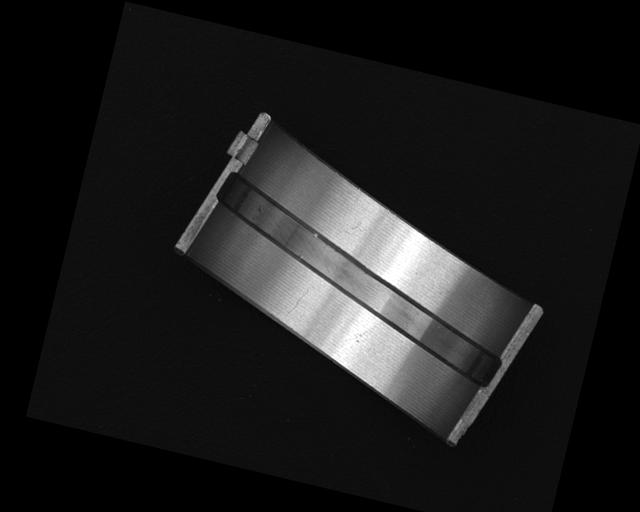gap: (188, 171, 530, 389)
nick: (285, 285, 309, 318)
